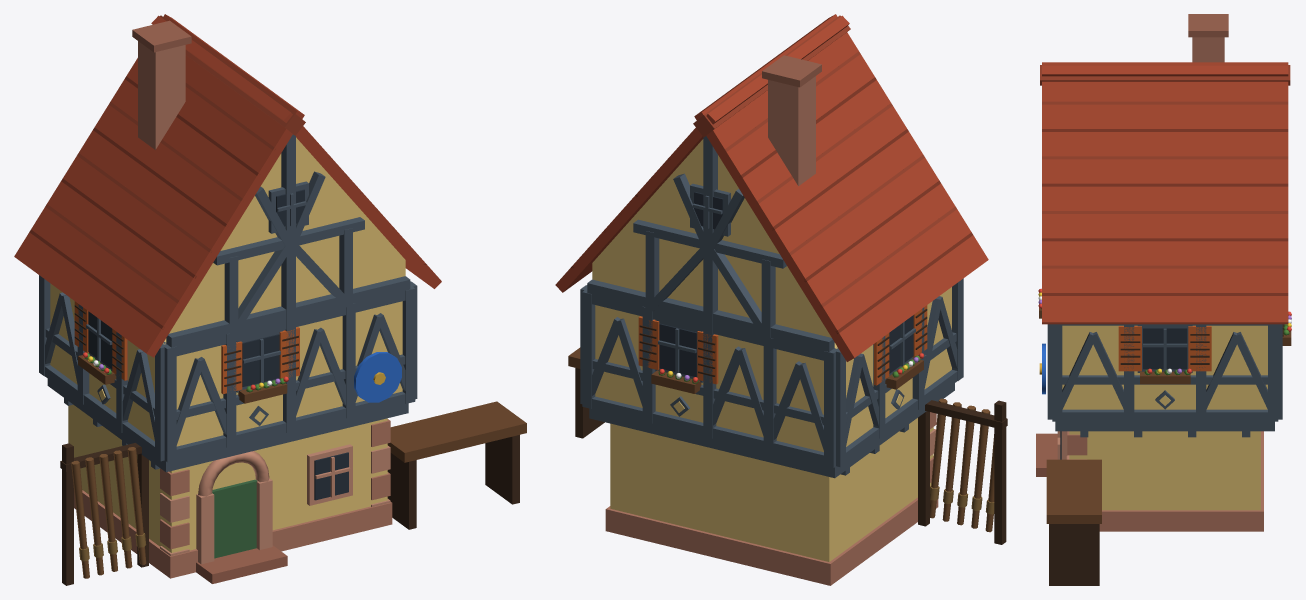
Rendered from waffenschnitzer.glb.
3 renders of one model, left to right at view 1: azimuth 30°, elevation 25°; view 2: azimuth 150°, elevation 25°; view 3: azimuth 270°, elevation 25°, orthographic. The views are drawn at different scales.
Bounding box in the file's own units: 4.6 × 4.81 × 2.54.
